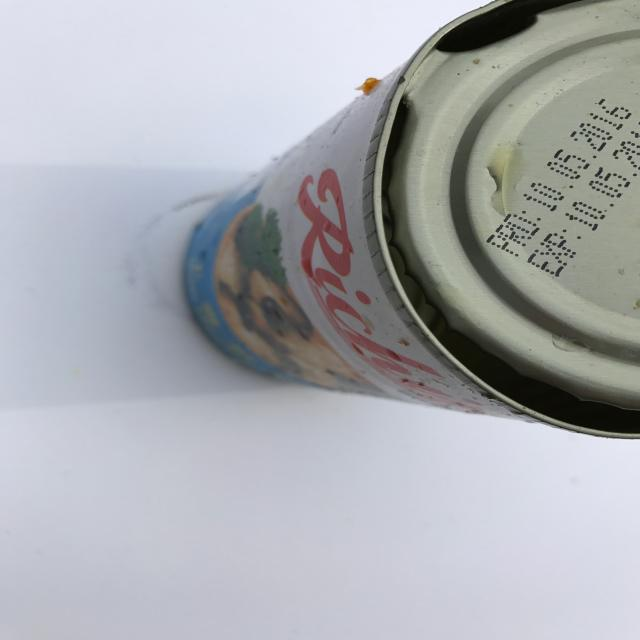metal: (179, 0, 640, 440)
